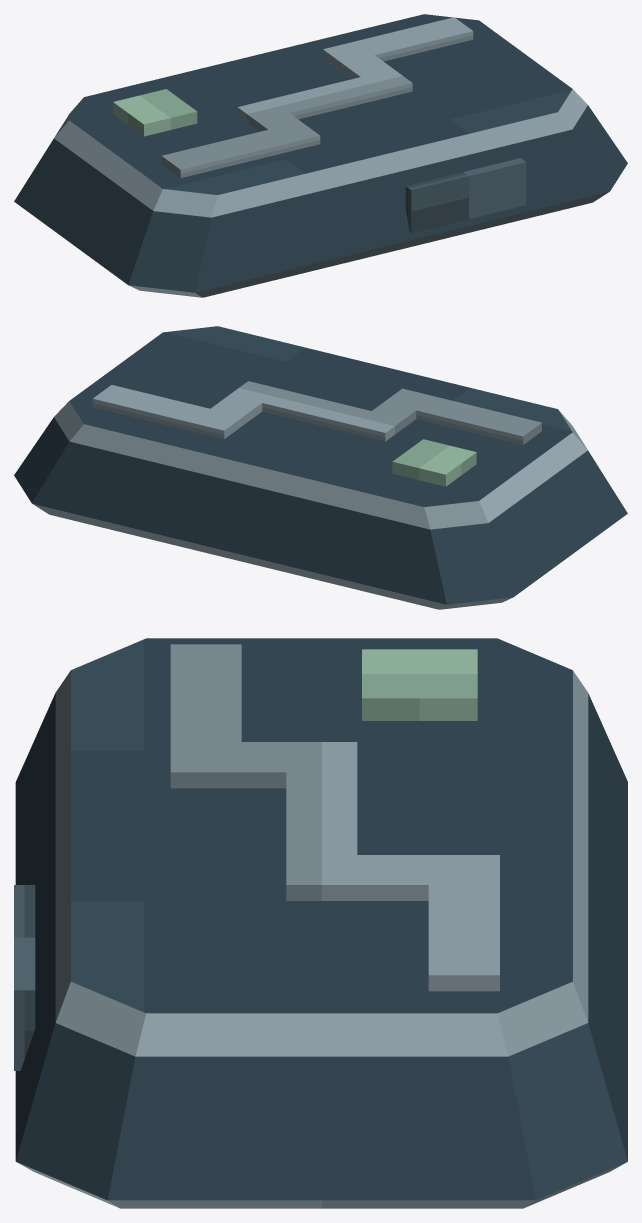
File: qi_moqing_ingot.obj
3 views of the same model, one above another, from view 1: azimuth 30°, elevation 25°; view 2: azimuth 150°, elevation 25°; view 3: azimuth 270°, elevation 25° (orthographic). The views are drawn at different scales.
Visible parts, largest first — view 1: ingot_body, ingot_cloud, ingot_mineral, ingot_jade; view 2: ingot_body, ingot_cloud, ingot_jade; view 3: ingot_body, ingot_cloud, ingot_jade, ingot_mineral.
Boxes of the visible parts, box(x1,y1,x2,y2) form: ingot_body: box(14, 14, 627, 297); ingot_cloud: box(161, 17, 473, 178); ingot_mineral: box(405, 158, 526, 232); ingot_jade: box(113, 89, 197, 136); ingot_body: box(14, 326, 627, 609); ingot_cloud: box(92, 381, 541, 444); ingot_jade: box(392, 439, 476, 486); ingot_body: box(15, 638, 627, 1208); ingot_cloud: box(170, 644, 499, 991); ingot_jade: box(362, 649, 477, 720); ingot_mineral: box(14, 885, 35, 1070).
Bounding box in the file's own units: 0.38 × 0.0744 × 0.2156.
